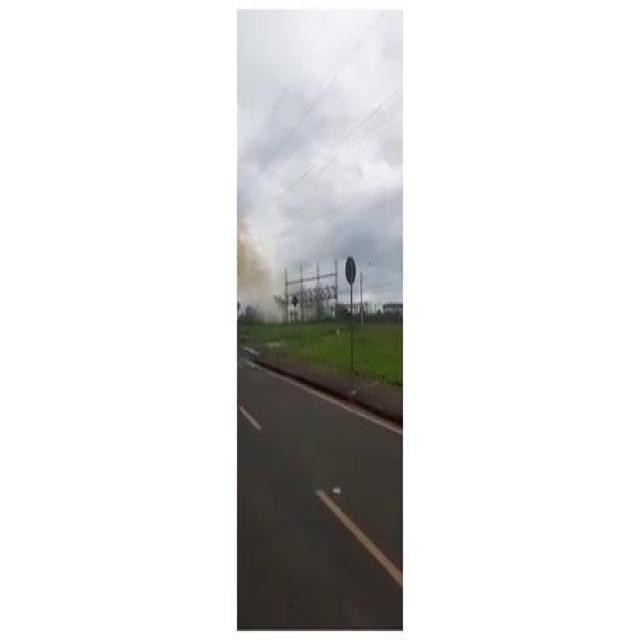Smoke: (236, 233, 295, 322)
